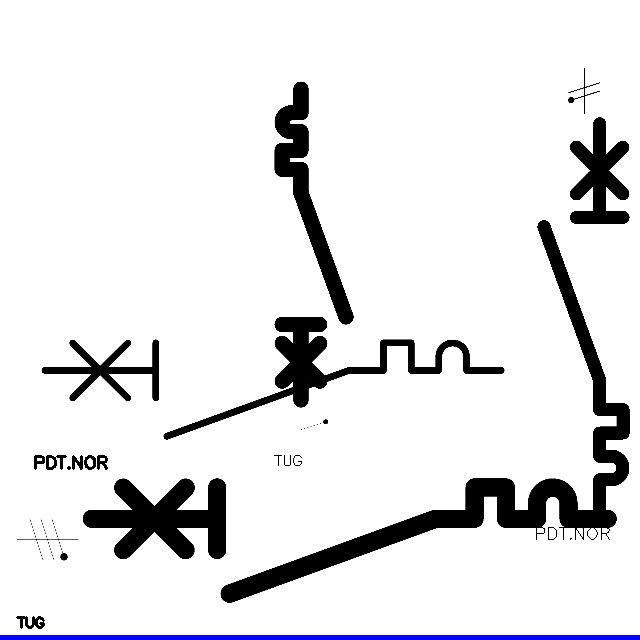interruptor_termomagnetico: (78, 474, 620, 606), (33, 331, 513, 448), (534, 113, 633, 518), (274, 81, 354, 408)
